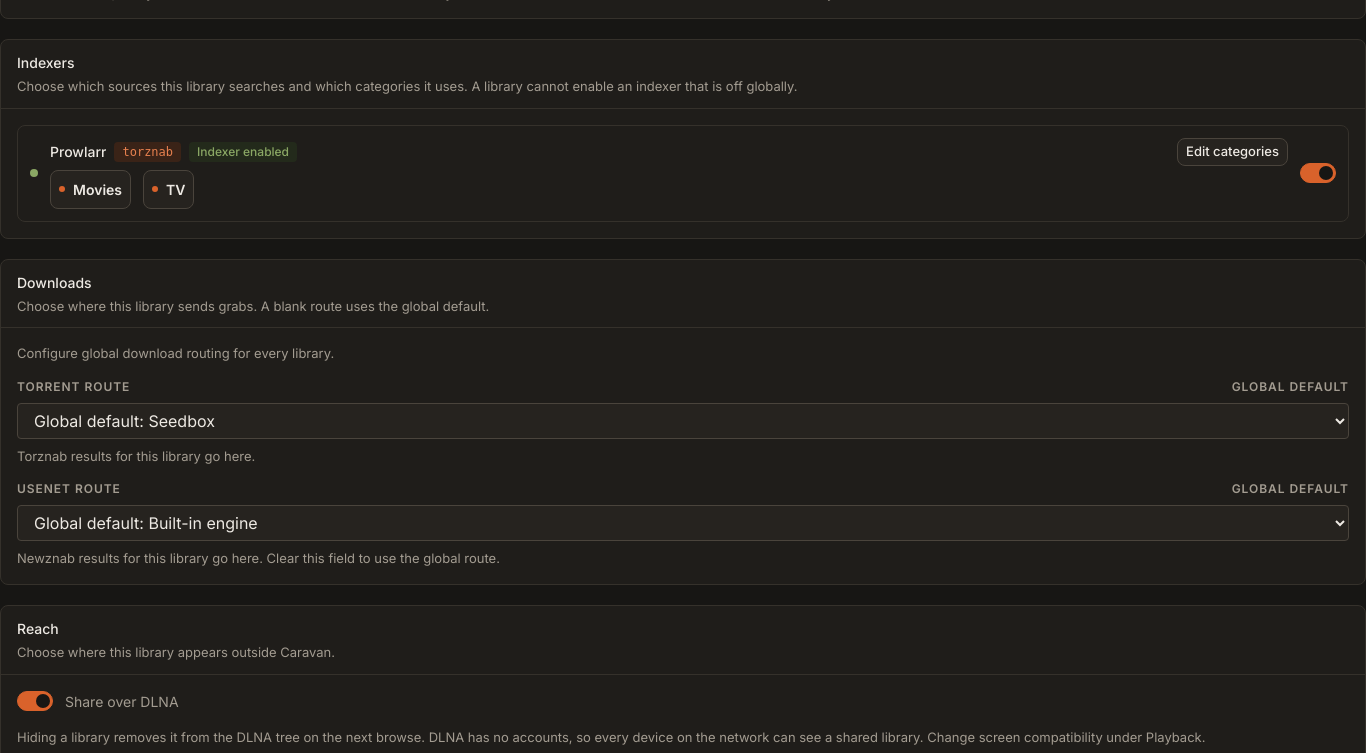
Test: LibrariesSettings — override vs global default › puts a rejected override back to what the server still holds
The image size is (1366, 753).
(page scrolled)
Select "Seedbox" in the dropdown labelled "Torrent route". click: (683, 421)
box: [17,403,1349,439]
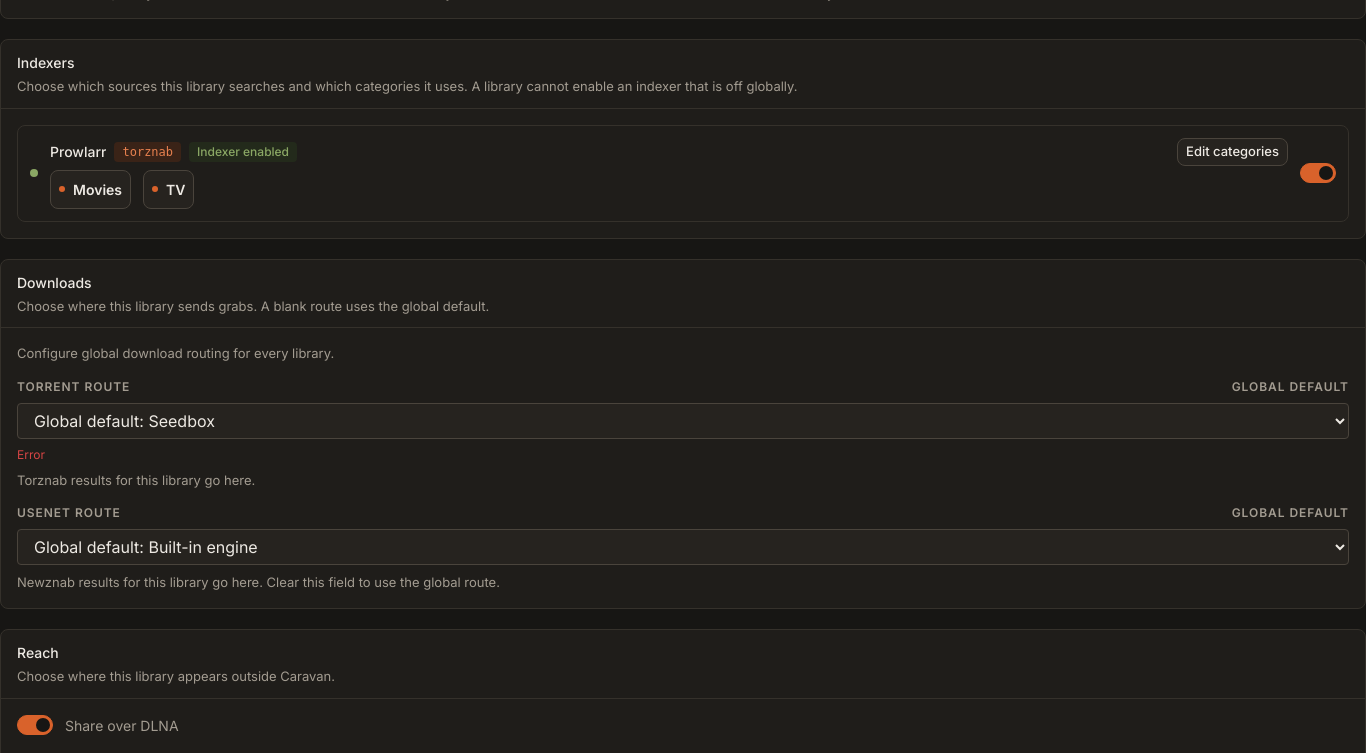
Now the text "Error" is shown, box [17,447,45,462]
